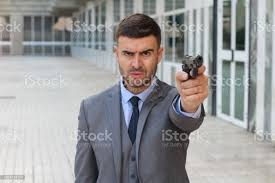gun: (178, 52, 208, 82)
